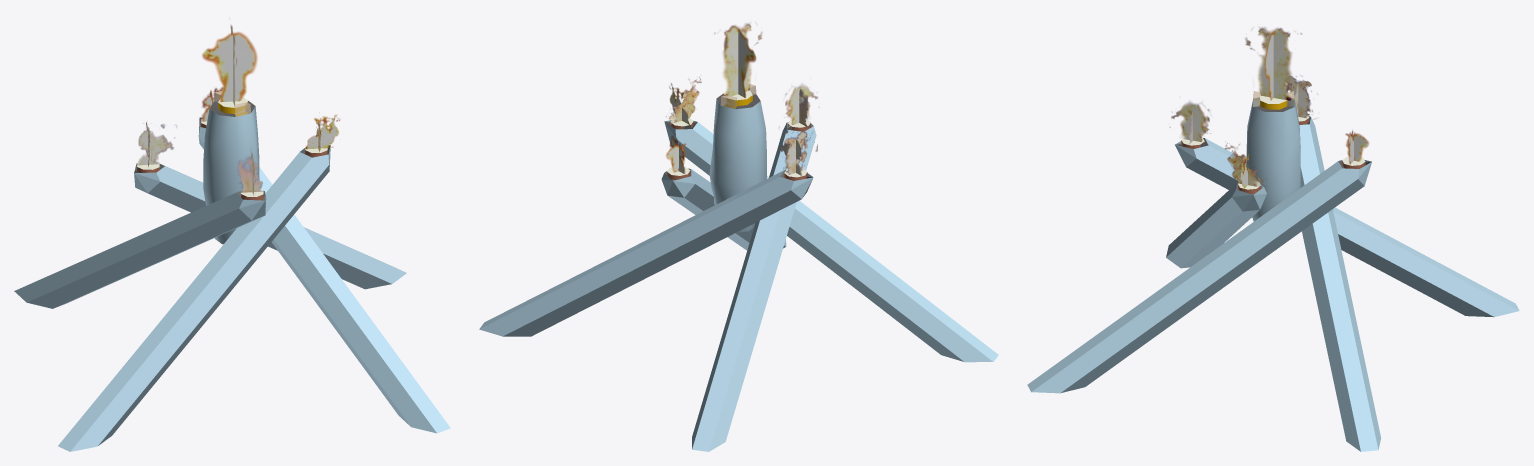
Rendered from olympic_cauldron.glb.
3 views of the same model, side by side, from view 1: azimuth 30°, elevation 25°; view 2: azimuth 150°, elevation 25°; view 3: azimuth 270°, elevation 25° (orthographic). The views are drawn at different scales.
Visible parts, largest first — view 1: leg erect (×4), object 10, object 11, object 12, object 14, object 13; view 2: leg erect (×4), object 10, object 16, object 11, object 17, object 18, object 20; view 3: leg erect (×4), object 10, object 16, object 18, object 20, object 17.
Part boxes in pixels (x1,y1,x2,y2): leg erect (×4): [14, 117, 450, 451]; object 10: [203, 90, 259, 244]; object 11: [202, 32, 257, 102]; object 12: [137, 123, 176, 165]; object 14: [237, 156, 263, 192]; object 13: [304, 114, 339, 149]; leg erect (×4): [479, 120, 998, 451]; object 10: [709, 84, 766, 232]; object 16: [714, 22, 762, 97]; object 11: [724, 26, 756, 97]; object 17: [779, 131, 817, 176]; object 18: [784, 83, 819, 124]; object 20: [665, 77, 701, 124]; leg erect (×4): [1027, 116, 1519, 451]; object 10: [1246, 91, 1300, 221]; object 16: [1245, 27, 1301, 100]; object 18: [1169, 101, 1210, 141]; object 20: [1225, 143, 1266, 187]; object 17: [1285, 76, 1317, 119].
Size of the model in its own units: 19.24 by 13.86 by 19.23.
11 materials, 3 textured.
